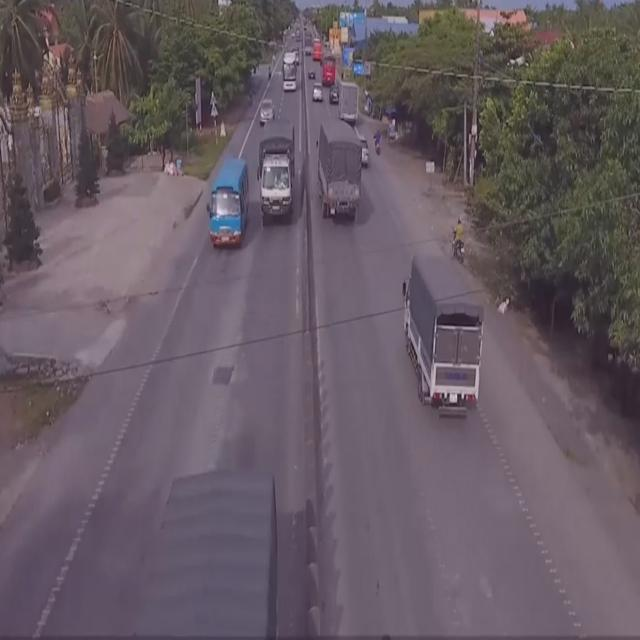bus: (208, 161, 250, 251), (282, 47, 298, 90)
car: (260, 95, 277, 126), (358, 134, 370, 167)
motorbike: (449, 216, 466, 270)
truck: (148, 467, 282, 640), (400, 248, 482, 416), (316, 127, 360, 224), (260, 114, 297, 225), (339, 81, 362, 130)
